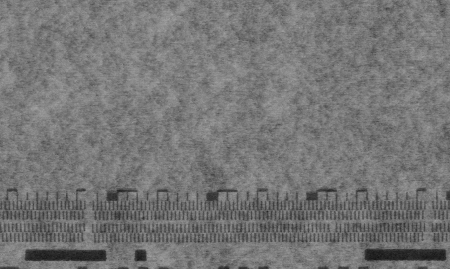Broken hole: (327, 220, 339, 232)
